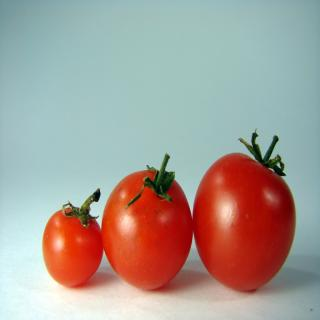tomato: (191, 127, 298, 293), (101, 151, 193, 289), (40, 186, 103, 288)
